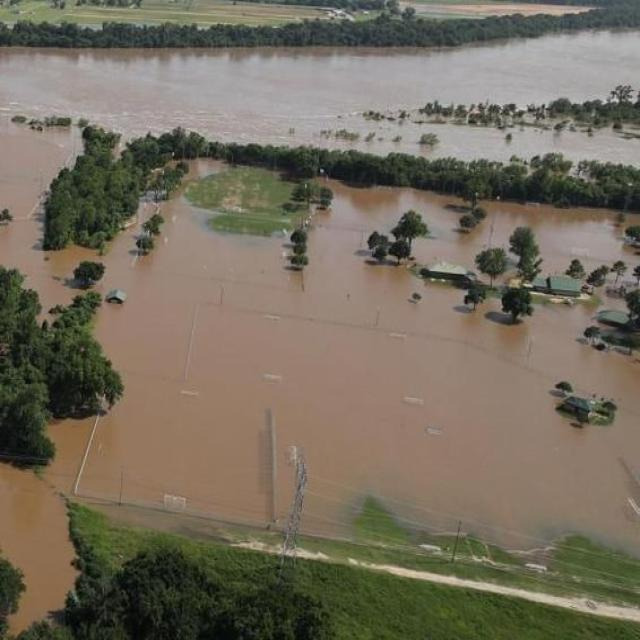flooded_areas: (0, 97, 638, 559)
